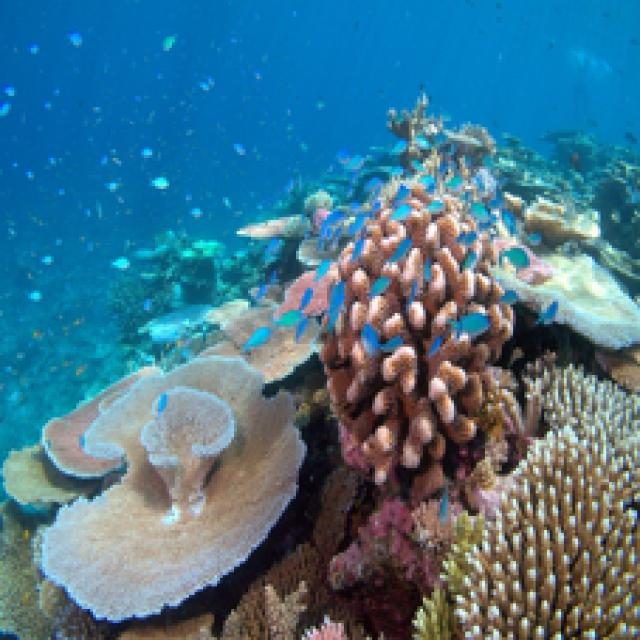Bleached: (497, 255, 638, 345)
Healthy: (43, 356, 303, 618), (322, 184, 514, 497), (441, 368, 638, 638), (122, 441, 362, 638), (331, 497, 461, 596), (201, 308, 314, 379), (46, 379, 125, 477), (1, 503, 55, 638), (7, 444, 97, 506)
